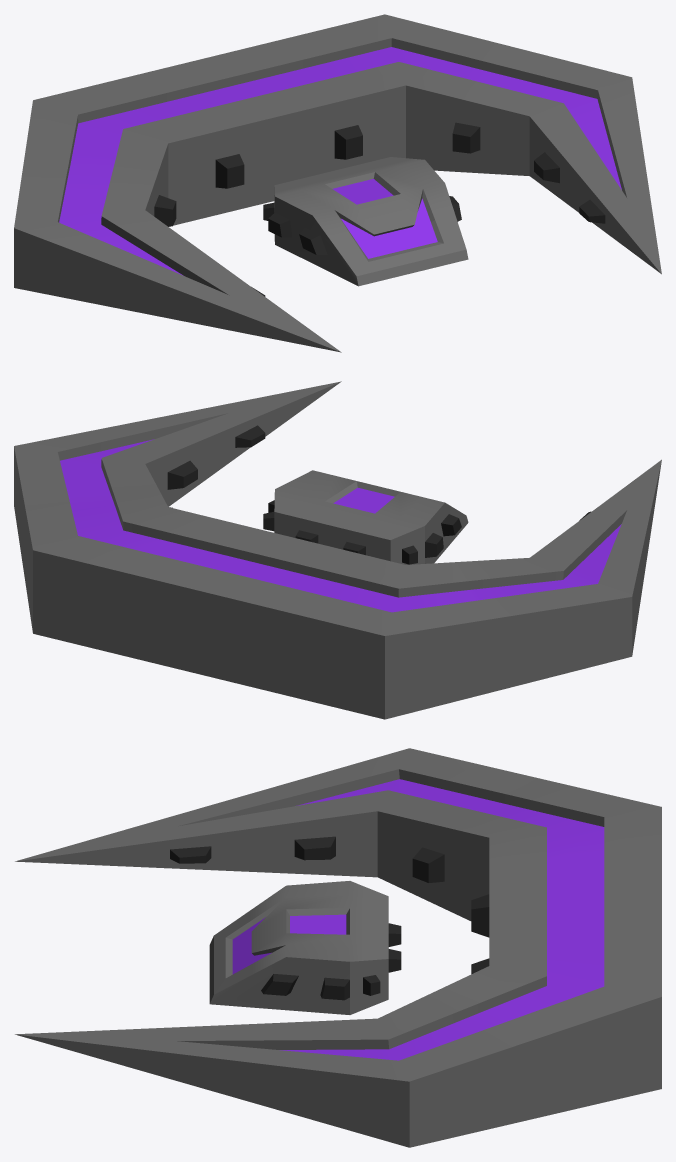
File: Mag-U.fbx
The picture shows the model from 3 angles, top to bottom: view 1: azimuth 30°, elevation 25°; view 2: azimuth 150°, elevation 25°; view 3: azimuth 270°, elevation 25°; orthographic projection. The views are drawn at different scales.
Visible parts, largest first — view 1: magU__energy1; view 2: magU__energy1; view 3: magU__energy1.
Boxes of the visible parts, x1,y1,x2,y2 form: magU__energy1: [14, 14, 661, 352]; magU__energy1: [14, 381, 661, 719]; magU__energy1: [15, 748, 661, 1147].
Size of the model in its own units: 5.37 by 0.6927 by 4.41.
